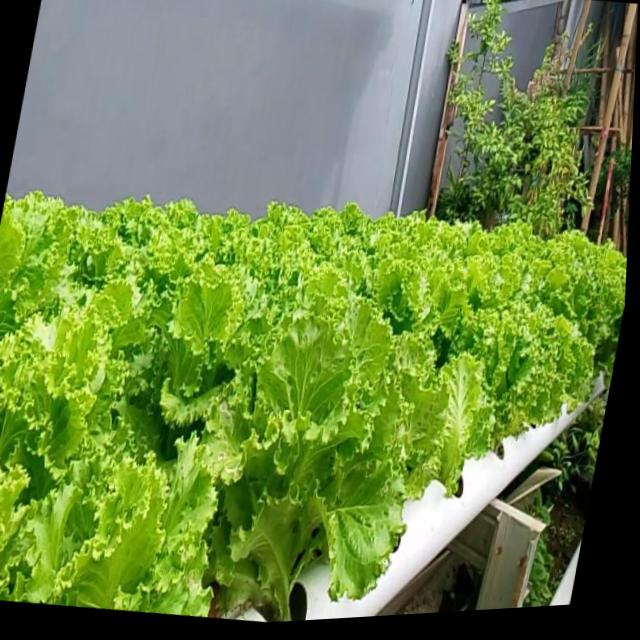Mature: (0, 176, 625, 619), (225, 307, 424, 605), (457, 255, 614, 466)
